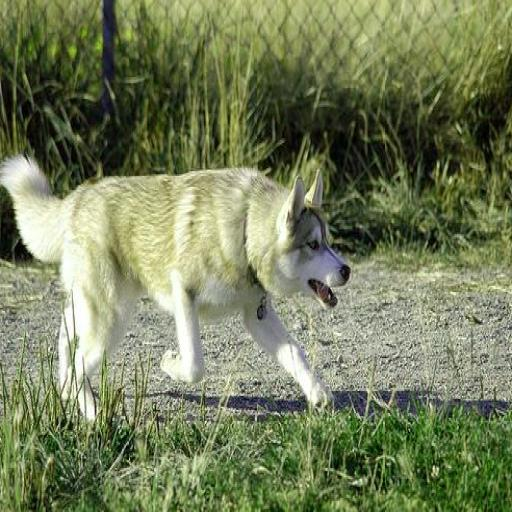dog_face: (286, 171, 348, 316)
